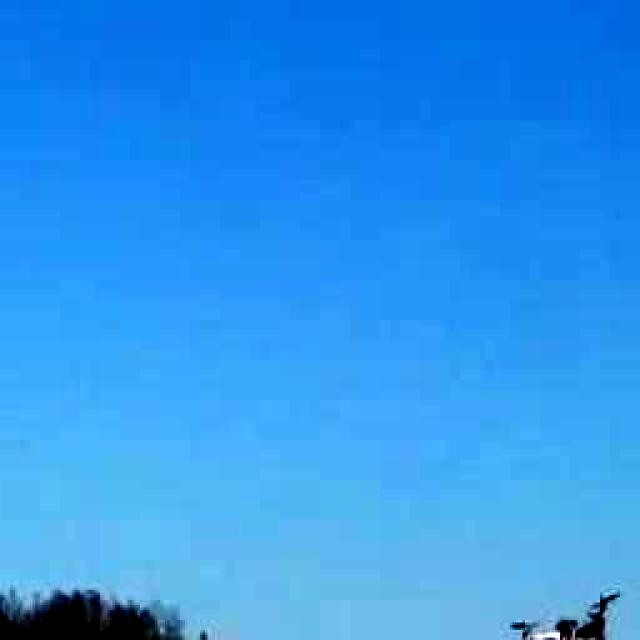bird: (490, 588, 640, 640)
